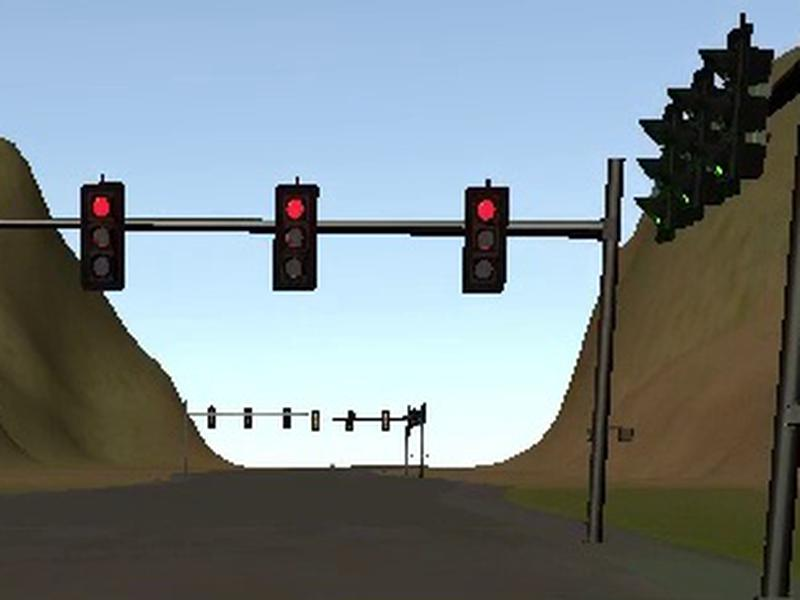Red: (461, 186, 509, 294), (80, 182, 124, 292), (272, 183, 316, 291)
